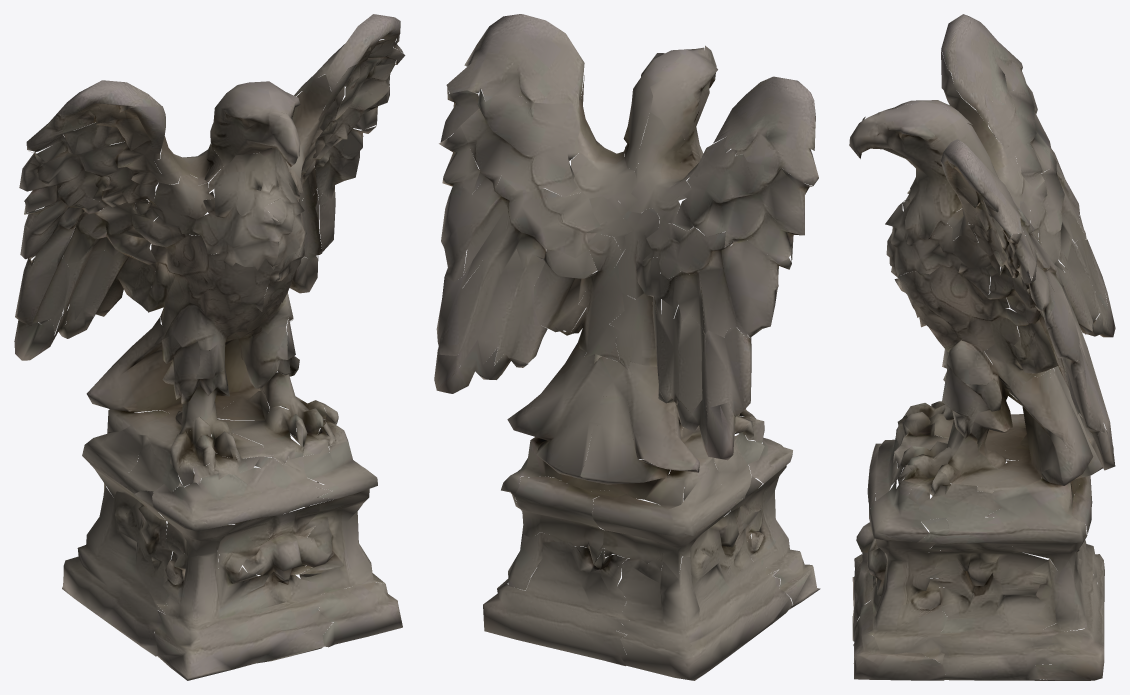
Rendered from penn_eagle.glb.
3 views of the same model, side by side, from view 1: azimuth 30°, elevation 25°; view 2: azimuth 150°, elevation 25°; view 3: azimuth 270°, elevation 25° (orthographic). The views are drawn at different scales.
Visible parts, largest first — view 1: tripo_node_d4c220fc-b0a1-4a99-83ef-94e51e86ce09; view 2: tripo_node_d4c220fc-b0a1-4a99-83ef-94e51e86ce09; view 3: tripo_node_d4c220fc-b0a1-4a99-83ef-94e51e86ce09.
Part boxes in pixels (bbox=[...]): tripo_node_d4c220fc-b0a1-4a99-83ef-94e51e86ce09: bbox=[14, 14, 405, 680]; tripo_node_d4c220fc-b0a1-4a99-83ef-94e51e86ce09: bbox=[434, 14, 820, 680]; tripo_node_d4c220fc-b0a1-4a99-83ef-94e51e86ce09: bbox=[849, 14, 1115, 680].
Size of the model in its own units: 0.6975 by 0.9996 by 0.4386.
Materials: 1 (1 with a texture image).
